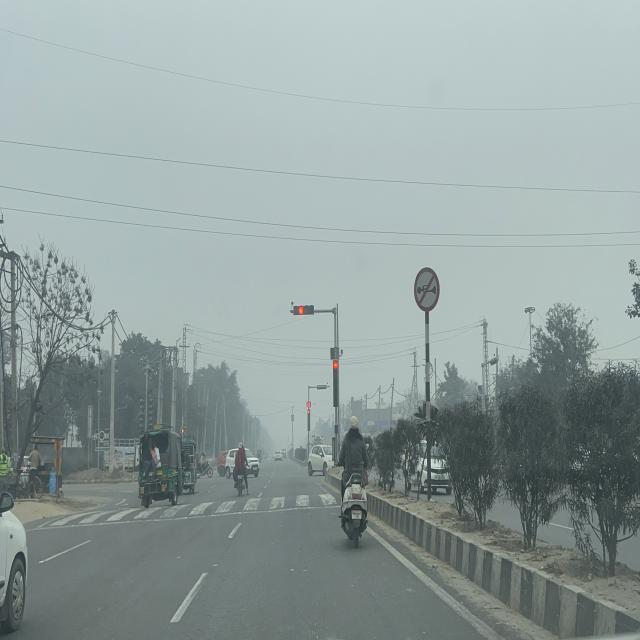HORN_PROHIBITED: (414, 267, 440, 312)
